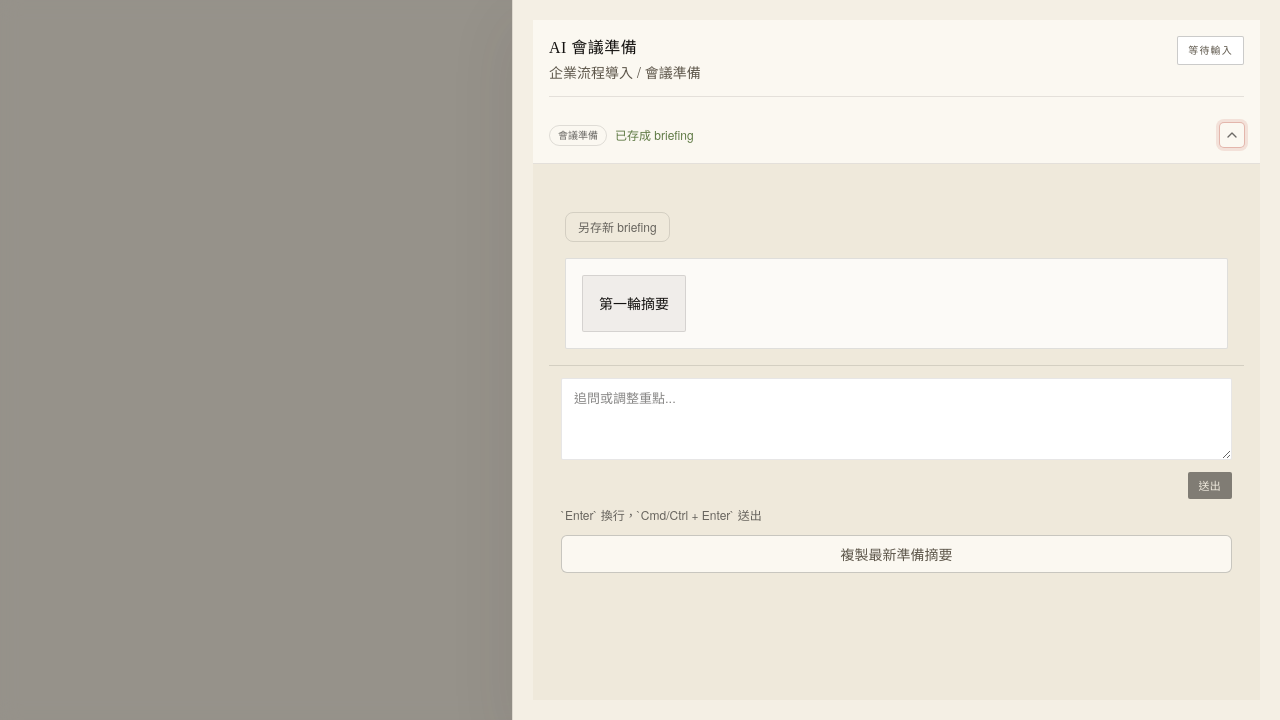
Scenario: CrmAiPanel › does not send follow-up on plain Enter, but sends on Ctrl+Enter
The image size is (1280, 720).
Expected: the text "第一輪摘要" is shown, [599, 292, 669, 315]
Type "先不要送出" into the text box with placeholder "追問或調整重點..." at (896, 419), box [561, 378, 1232, 460]
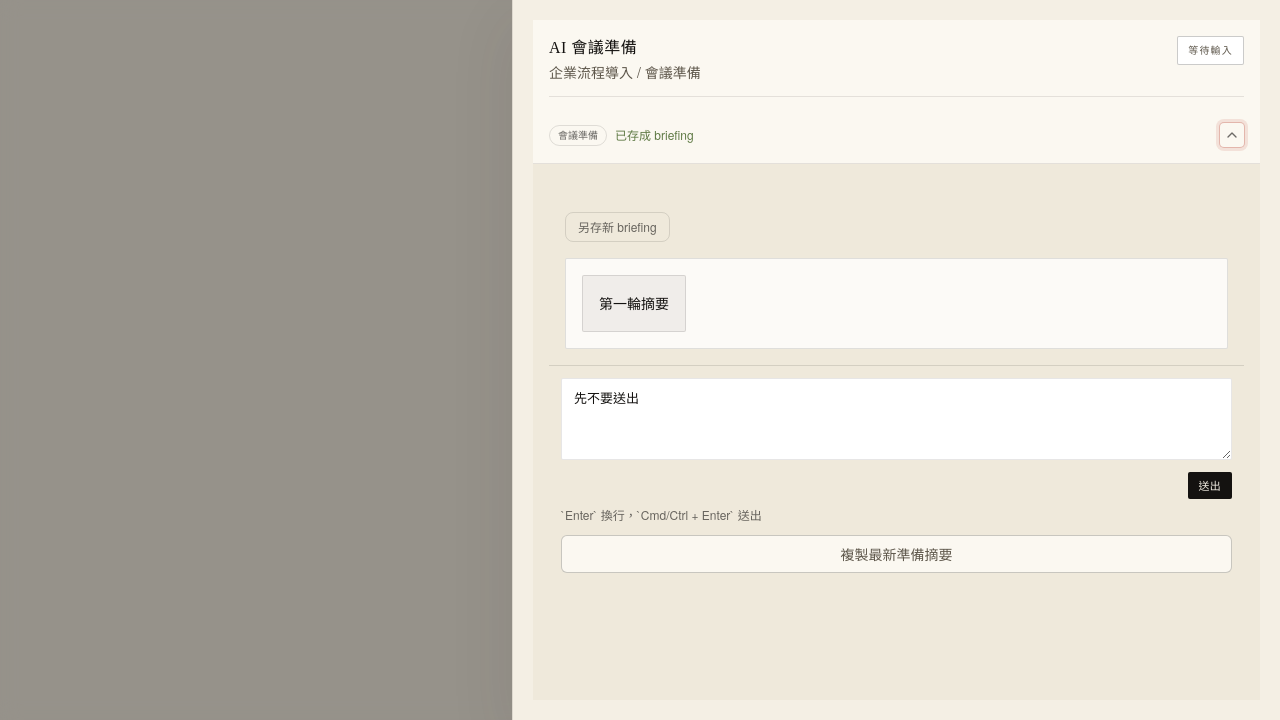
Press Enter in the text box with placeholder "追問或調整重點...", box [561, 378, 1232, 460]
Press Enter in the text box showing "先不要送出", box [561, 378, 1232, 460]
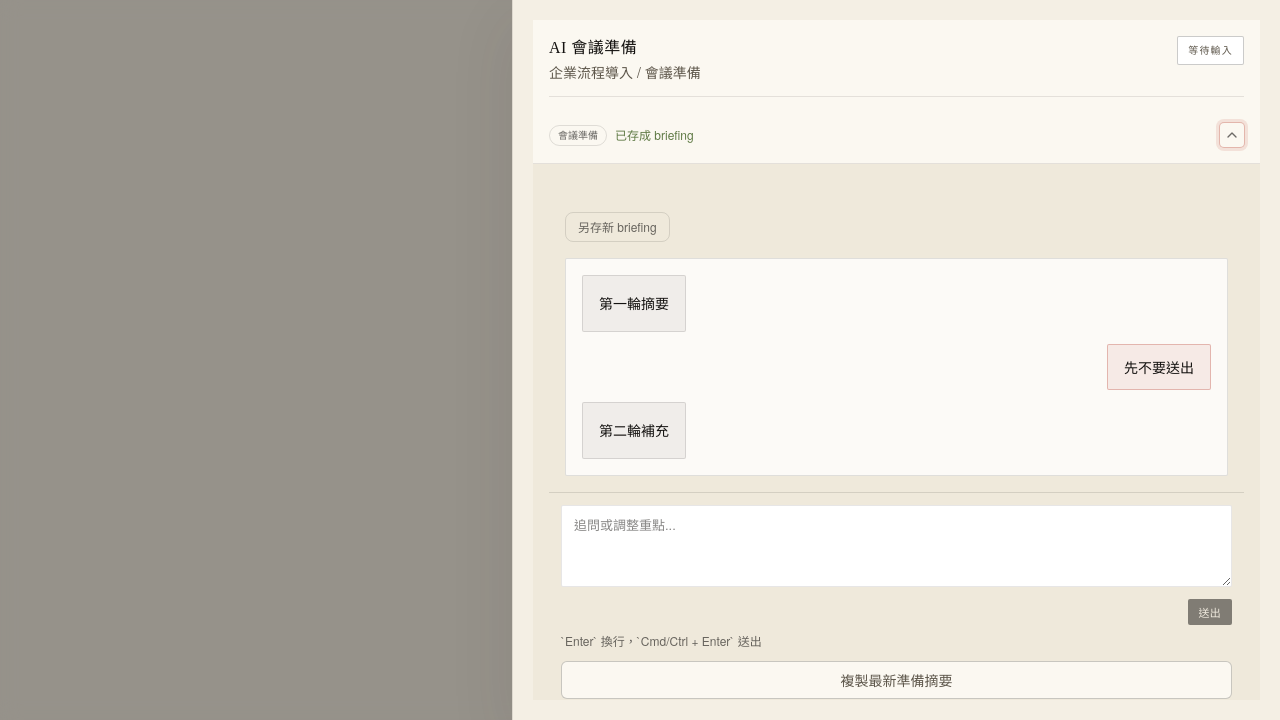
Result: the text "第二輪補充" is shown at [599, 419, 669, 442]
